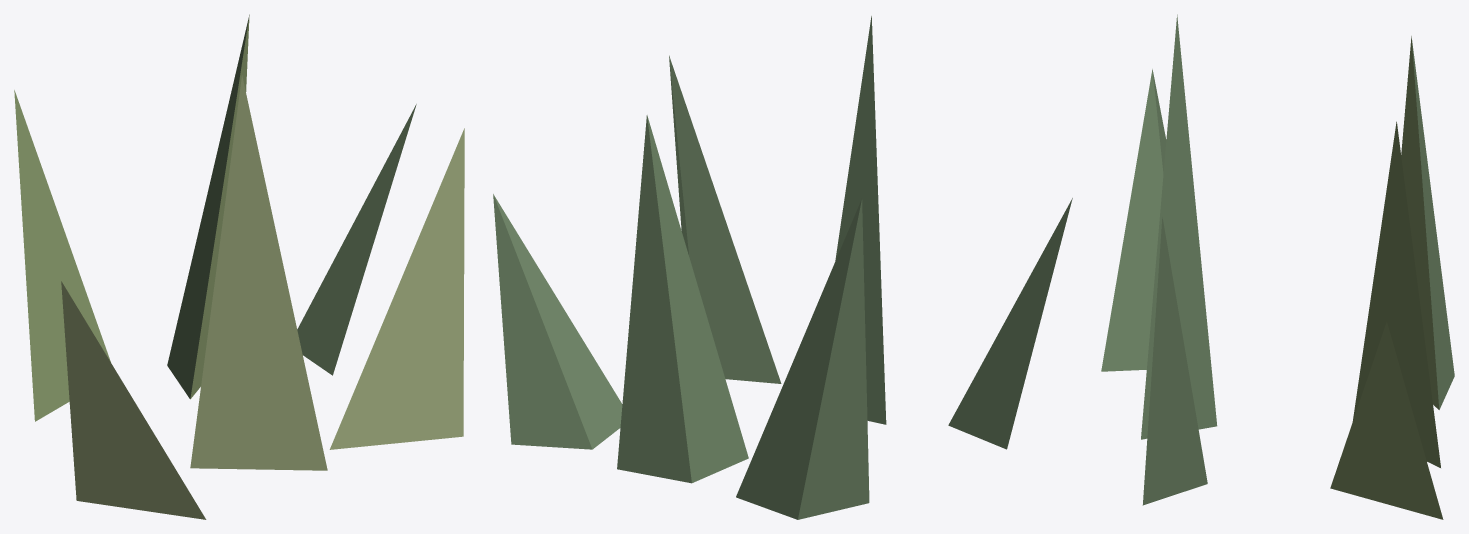
The model's file is grass_tuft_c.fbx.
The picture shows the model from 3 angles, left to right: view 1: azimuth 30°, elevation 25°; view 2: azimuth 150°, elevation 25°; view 3: azimuth 270°, elevation 25°; orthographic projection. The views are drawn at different scales.
Visible parts, largest first — view 1: grass_tuft_c; view 2: grass_tuft_c; view 3: grass_tuft_c.
Part boxes in pixels (<box>): grass_tuft_c: <box>14,14,464,519</box>; grass_tuft_c: <box>493,16,1072,519</box>; grass_tuft_c: <box>1101,14,1454,519</box>.
Size of the model in its own units: 0.2191 by 0.176 by 0.1434.
